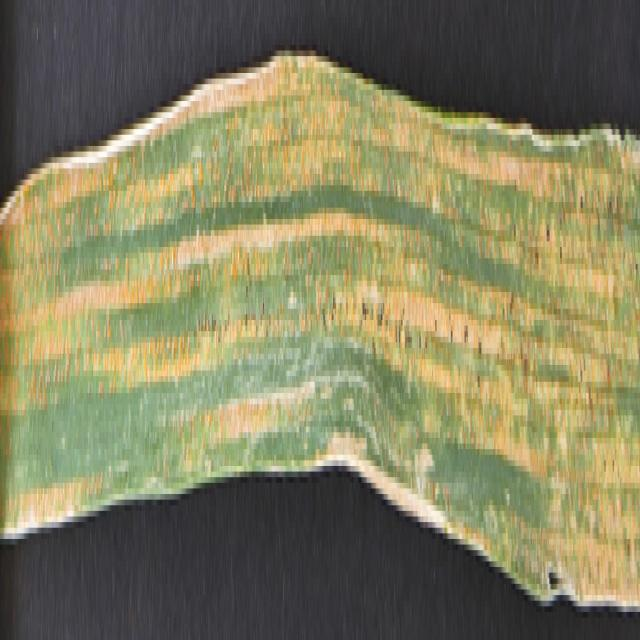leaf rust: (1, 67, 403, 466)
